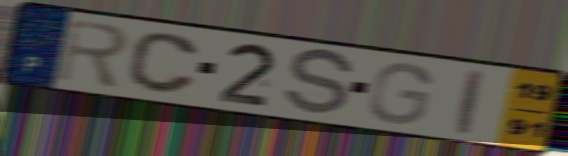2: (217, 42, 277, 109)
C: (124, 30, 202, 96)
G: (365, 60, 436, 126)
I: (454, 67, 487, 138)
R: (53, 16, 132, 90)
S: (280, 47, 358, 118)
